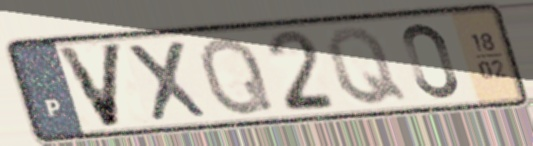0: (400, 21, 461, 102)
2: (263, 28, 339, 114)
Q: (322, 24, 412, 108), (197, 33, 279, 119)
V: (51, 40, 127, 131)
X: (121, 37, 214, 125)
